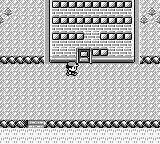main: (66, 62, 79, 76)
no-caminable: (49, 0, 135, 63)
puerta: (79, 49, 89, 63)
salto: (45, 120, 159, 127), (0, 56, 43, 64), (0, 120, 27, 128), (140, 56, 159, 64)
